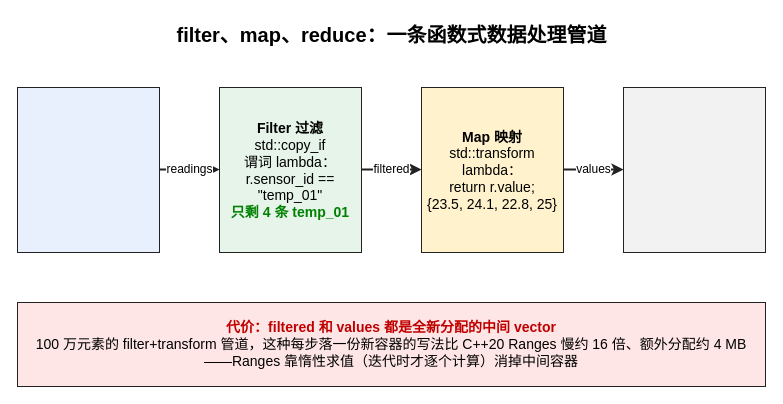
Some shapes in this 783 by 404 pixel diagram are drawn without their labels. The shapes that lost their labels are listed below. From the top down, each one's box as (x1, y1, x2, y2) in pixels, then its label:
(16, 86, 160, 252): 输入 readings 8 条传感器读数 temp_01 / temp_02 / temp_03 混在一起
(622, 86, 766, 252): Reduce 归约 std::accumulate 求和 95.4 再除以 4 平均 23.85
